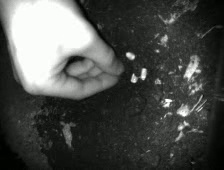corn: (122, 50, 137, 62), (128, 70, 139, 85), (139, 65, 148, 80)
